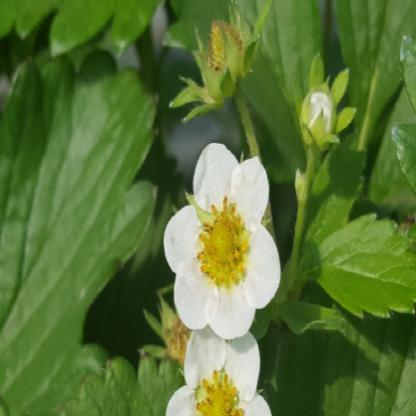Strawberry_Blossom_Blight: (195, 194, 254, 292)
